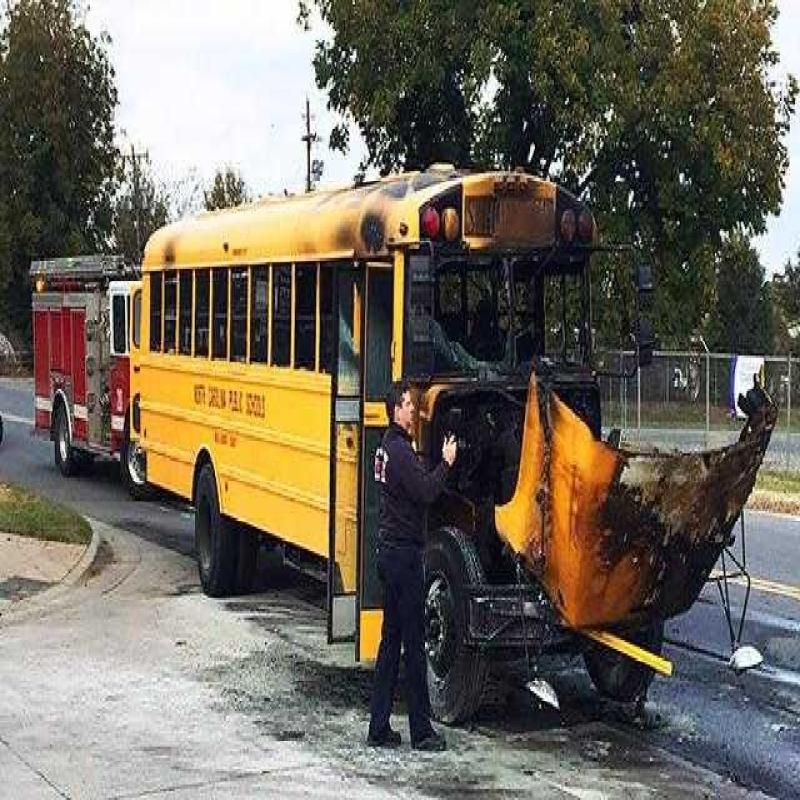bus: (144, 175, 607, 637)
